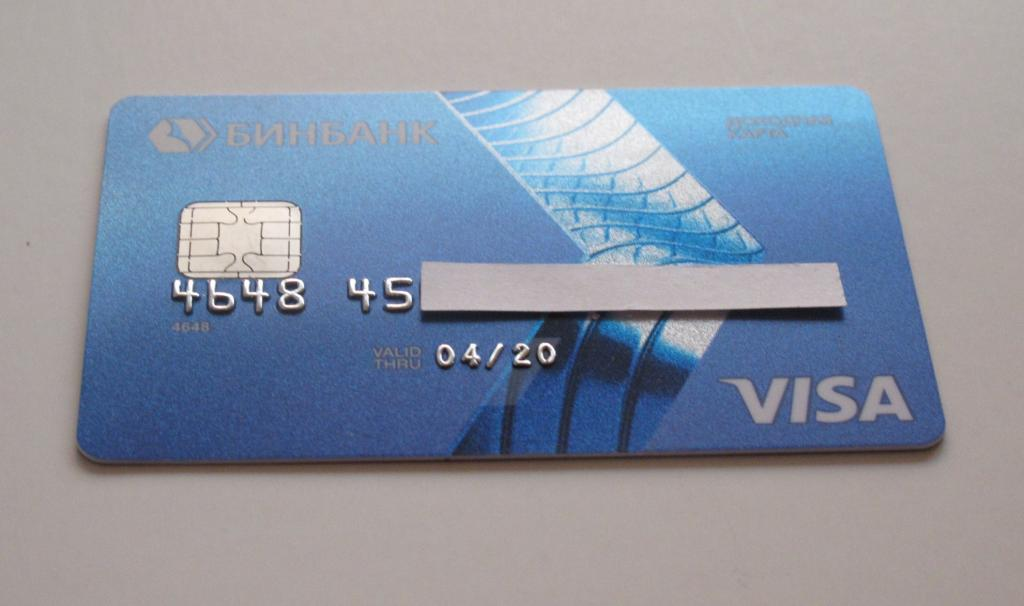card: (76, 83, 946, 469)
